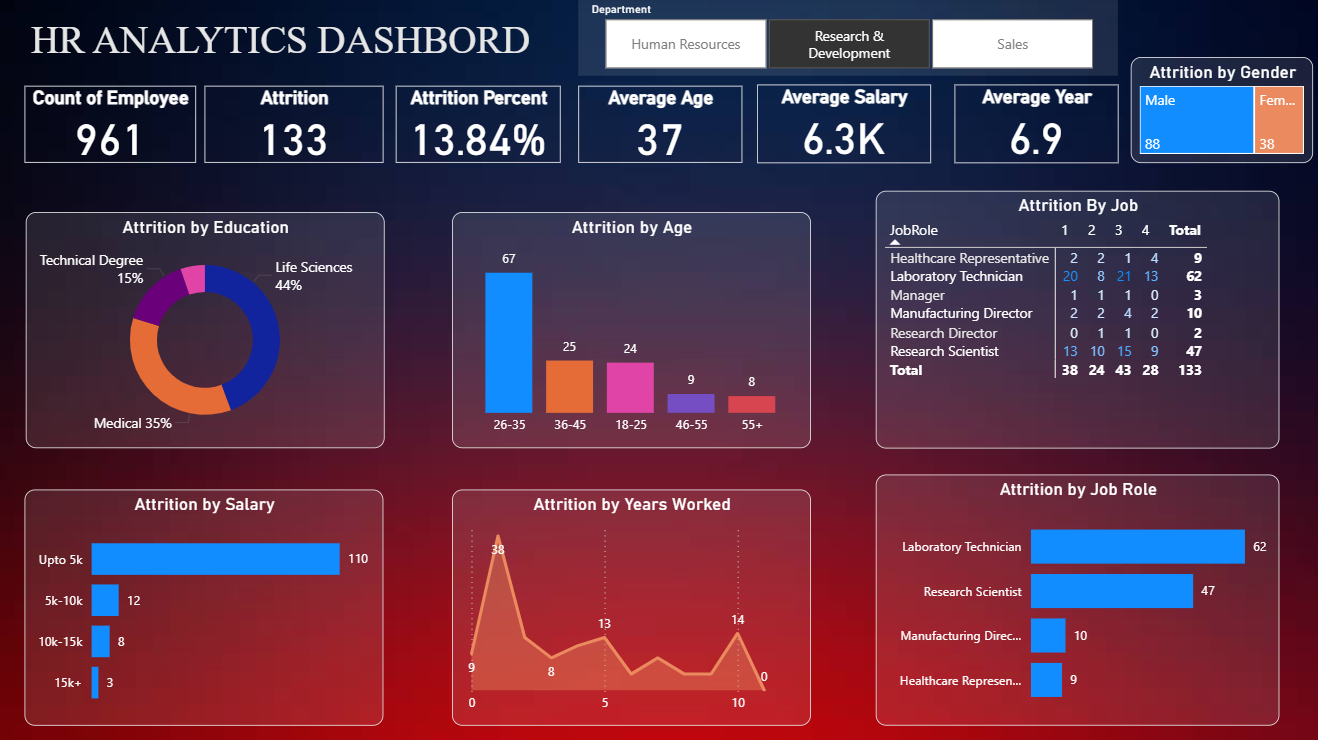

What the dashboard file says about the page in this screenshot:
{"tool":"powerbi","page":{"name":"Page 1","canvas":[1280,720],"ordinal":0},"visuals":[{"type":"card","title":"Count of Employee","fields":{"Values":["CountNonNull(HR_Analytics.EmpID)"]},"box":[26.5,85.7,165.3,74.8],"z":0},{"type":"card","title":"Attrition","fields":{"Values":["Sum(HR_Analytics.AttritionCount)"]},"box":[200.3,85.7,172.5,74.8],"z":1000},{"type":"card","title":"Attrition Percent","fields":{"Values":["HR_Analytics.AttritionRate"]},"box":[384.9,85.7,159.3,74.8],"z":2000},{"type":"card","title":"Average Age","fields":{"Values":["Avg(HR_Analytics.Age)"]},"box":[561,85.7,158,74.8],"z":3000},{"type":"card","title":"Average Salary","fields":{"Values":["Avg(HR_Analytics.MonthlyIncome)"]},"box":[733.5,84.5,167.7,76],"z":4000},{"type":"card","title":"Average Year","fields":{"Values":["Avg(HR_Analytics.YearsAtCompany)"]},"box":[924.1,84.5,158,76],"z":5000},{"type":"donutChart","title":"Attrition by Education","fields":{"Category":["HR_Analytics.EducationField"],"Y":["Sum(HR_Analytics.AttritionCount)"]},"box":[27.7,207.5,346.2,228],"z":6000},{"type":"columnChart","title":"Attrition by Age","fields":{"Category":["HR_Analytics.AgeGroup"],"Y":["Sum(HR_Analytics.AttritionCount)"]},"box":[439.1,207.5,346.2,228],"z":7000},{"type":"pivotTable","title":"Attrition By Job","fields":{"Rows":["HR_Analytics.JobRole"],"Columns":["HR_Analytics.JobSatisfaction"],"Values":["Sum(HR_Analytics.AttritionCount)"]},"box":[848.1,187,389.7,248.5],"z":8000},{"type":"barChart","title":"Attrition by Salary","fields":{"Category":["HR_Analytics.SalarySlab"],"Y":["Sum(HR_Analytics.AttritionCount)"]},"box":[26.5,475.3,346.2,228],"z":9000},{"type":"barChart","title":"Attrition by Job Role","fields":{"Category":["HR_Analytics.JobRole"],"Y":["Sum(HR_Analytics.AttritionCount)"]},"box":[848.1,460.9,389.7,242.5],"z":10000},{"type":"areaChart","title":"Attrition by Years Worked","fields":{"Category":["HR_Analytics.YearsAtCompany"],"Y":["Sum(HR_Analytics.AttritionCount)"]},"box":[439.1,475.3,346.2,228],"z":11000},{"type":"treemap","title":"Attrition by Gender","fields":{"Group":["HR_Analytics.Gender"],"Values":["Sum(HR_Analytics.AttritionCount)"]},"box":[1094.2,57.9,176.1,102.5],"z":12000},{"type":"slicer","fields":{"Values":["HR_Analytics.Department"]},"box":[561,0,521.2,76],"z":13000},{"type":"textbox","box":[27.7,14.5,492.2,61.5],"z":14000}]}

Visuals, with their boxes in screenshot pixels (x1, y1, x2, y2), scaled from the page's 1280x720 canvas onto the 1318x740 screenshot:
"Count of Employee" card: [27, 88, 197, 165]
"Attrition" card: [206, 88, 384, 165]
"Attrition Percent" card: [396, 88, 560, 165]
"Average Age" card: [578, 88, 740, 165]
"Average Salary" card: [755, 87, 928, 165]
"Average Year" card: [952, 87, 1114, 165]
"Attrition by Education" donutChart: [29, 213, 385, 448]
"Attrition by Age" columnChart: [452, 213, 809, 448]
"Attrition By Job" pivotTable: [873, 192, 1275, 448]
"Attrition by Salary" barChart: [27, 489, 384, 723]
"Attrition by Job Role" barChart: [873, 474, 1275, 723]
"Attrition by Years Worked" areaChart: [452, 489, 809, 723]
"Attrition by Gender" treemap: [1127, 60, 1308, 165]
slicer - HR_Analytics.Department: [578, 0, 1114, 78]
textbox: [29, 15, 535, 78]
